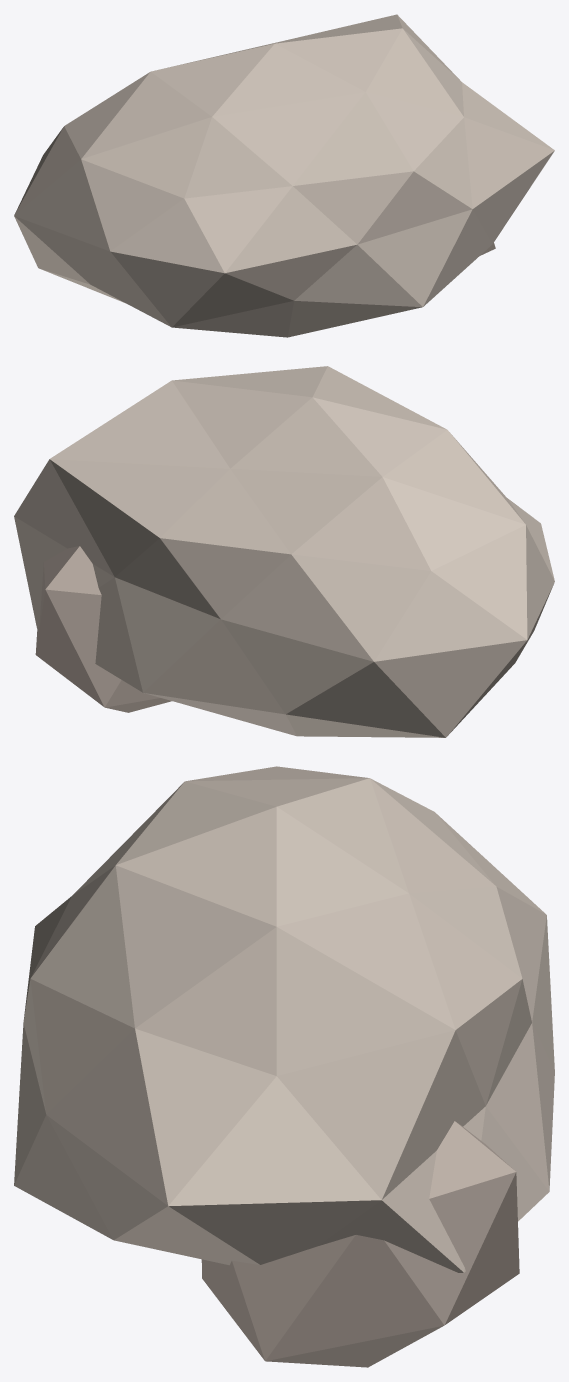
File: rock_small.glb
The picture shows the model from 3 angles, top to bottom: view 1: azimuth 30°, elevation 25°; view 2: azimuth 150°, elevation 25°; view 3: azimuth 270°, elevation 25°; orthographic projection. The views are drawn at different scales.
Visible parts, largest first — view 1: rock_small; view 2: rock_small; view 3: rock_small.
Boxes of the visible parts, left/top/right/bottom form: rock_small: left=14, top=14, right=554, bottom=337; rock_small: left=14, top=366, right=554, bottom=737; rock_small: left=14, top=766, right=554, bottom=1367.
Bounding box in the file's own units: 1.93 × 1.16 × 1.24.
